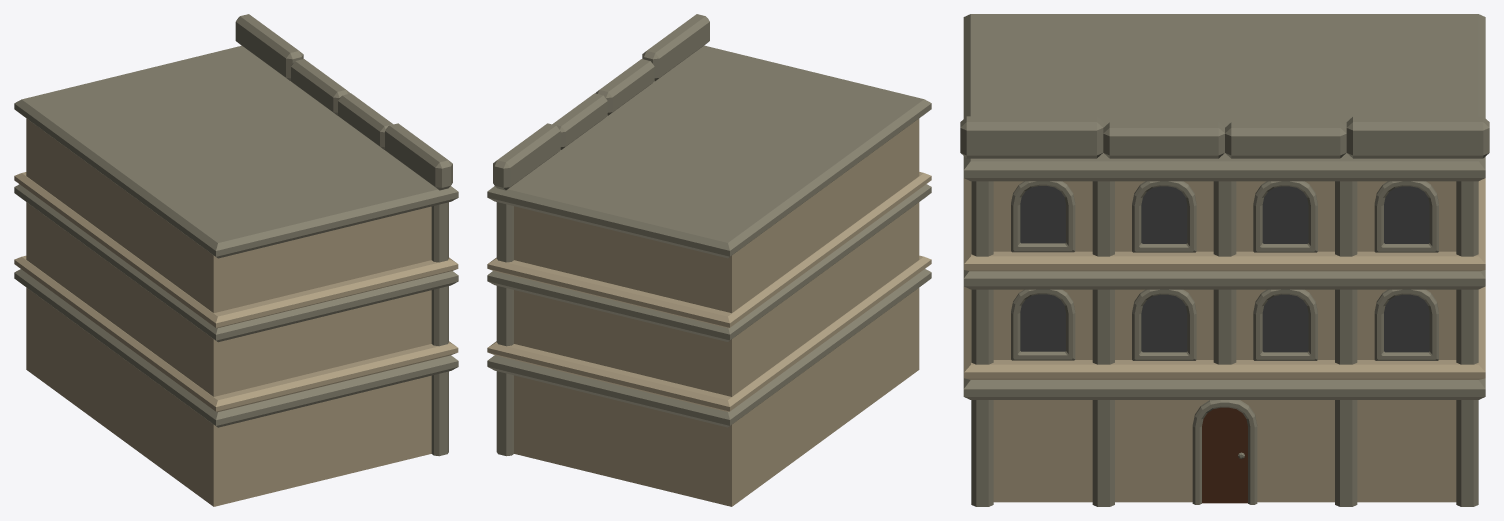
File: Edi_Medio_Ama.fbx
The picture shows the model from 3 angles, left to right: view 1: azimuth 30°, elevation 25°; view 2: azimuth 150°, elevation 25°; view 3: azimuth 270°, elevation 25°; orthographic projection. The views are drawn at different scales.
Parts seen in each view (by area): view 1: Cube.076, Cube.077, Cube.079; view 2: Cube.076, Cube.077, Cube.079; view 3: Cube.076, Cube.077, Cube.079, Cube.084, Cube.078.
Boxes of the visible parts, x1,y1,x2,y2 form: Cube.076: (14, 45, 458, 411); Cube.077: (14, 269, 458, 506); Cube.079: (235, 14, 452, 190); Cube.076: (487, 45, 931, 411); Cube.077: (487, 269, 931, 506); Cube.079: (493, 14, 709, 190); Cube.076: (963, 14, 1485, 379); Cube.077: (963, 286, 1485, 506); Cube.079: (960, 116, 1489, 158); Cube.084: (1202, 407, 1247, 503); Cube.078: (1192, 400, 1257, 504).
Size of the model in its own units: 3819 by 4442 by 5574.
